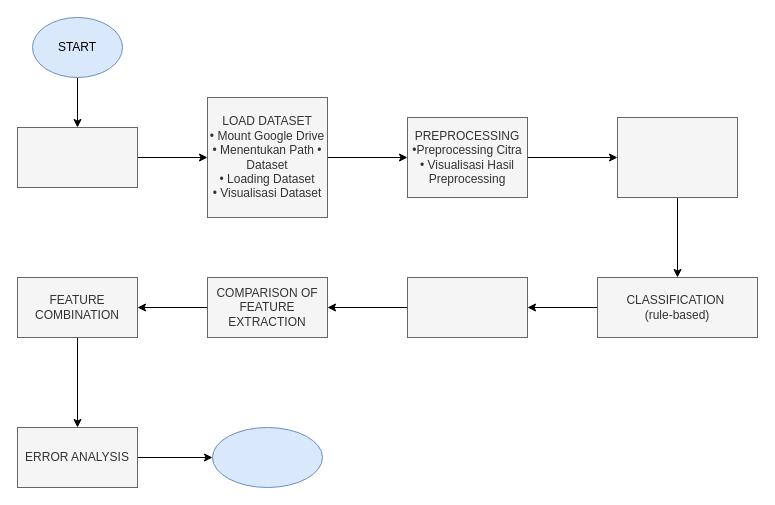
Image size: 775x505. Some labels were removed from this diagram. The shapes that lost their labels are listed below. From the top down, each one's box as (x1, y1, x2, y2) in pixels, then its label:
(16, 126, 138, 188): IMPORT LIBRARY
(616, 116, 738, 198): FEATURE EXTRACTION Color Histogram Texture (LBP) Egde (Canny)
(406, 276, 528, 338): EVALUATION
(212, 426, 322, 488): FINISH
